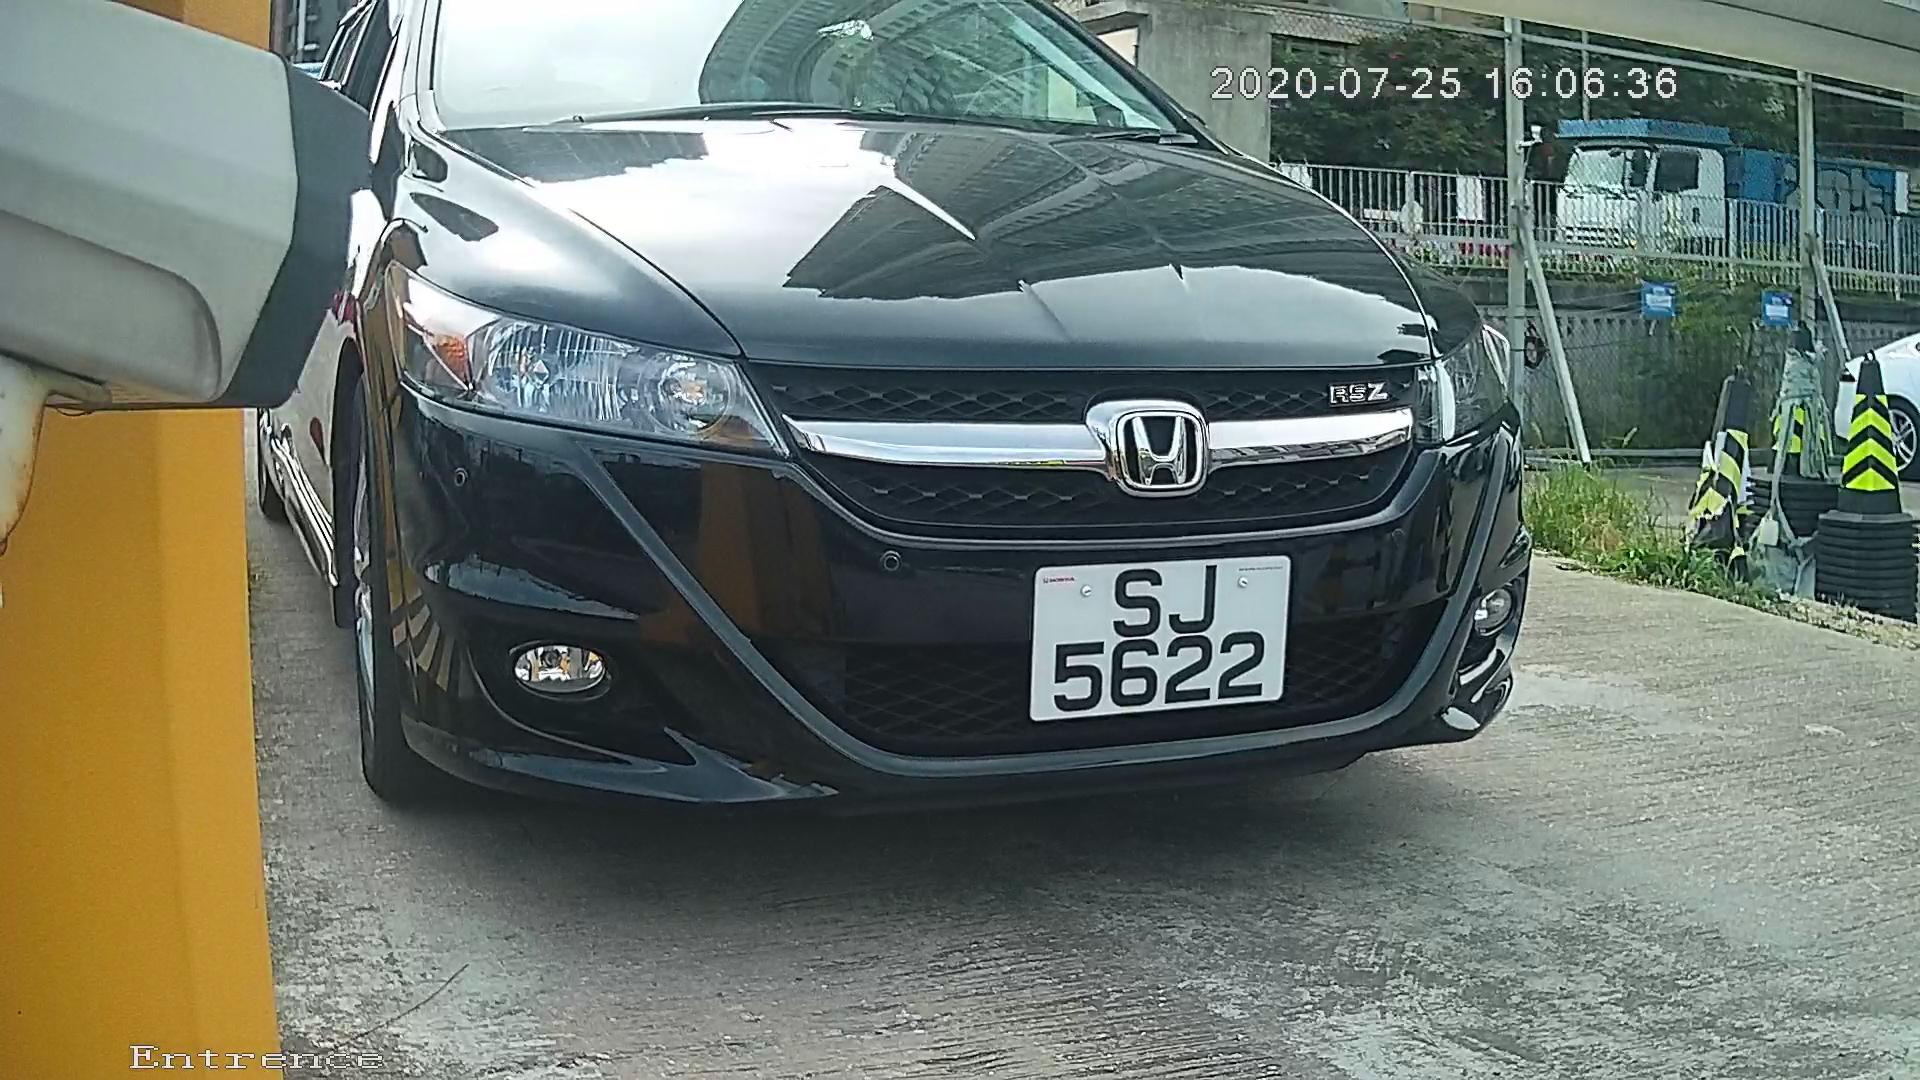License Plate: (1012, 541, 1303, 743)
